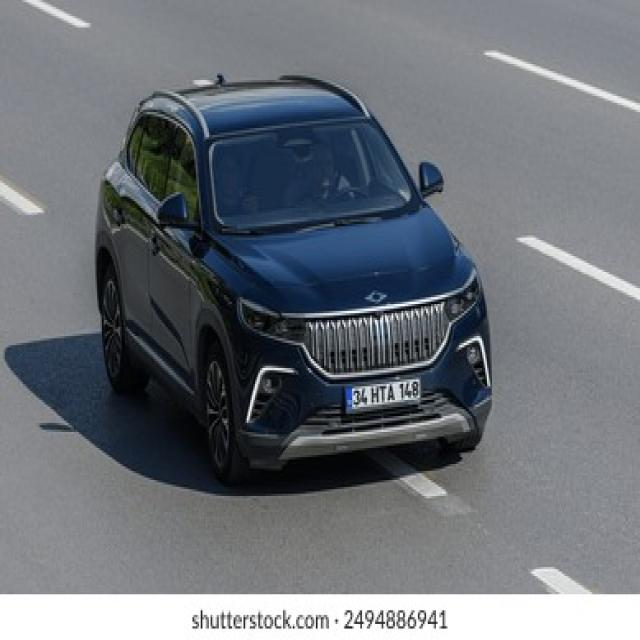togg: (363, 284, 391, 306)
